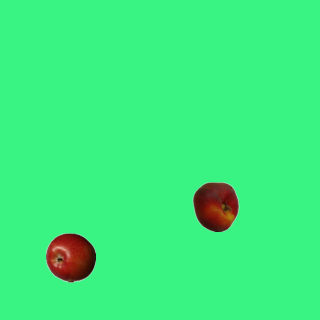Apple Braeburn: (45, 232, 95, 282)
Nectarine Flat: (190, 181, 240, 231)
